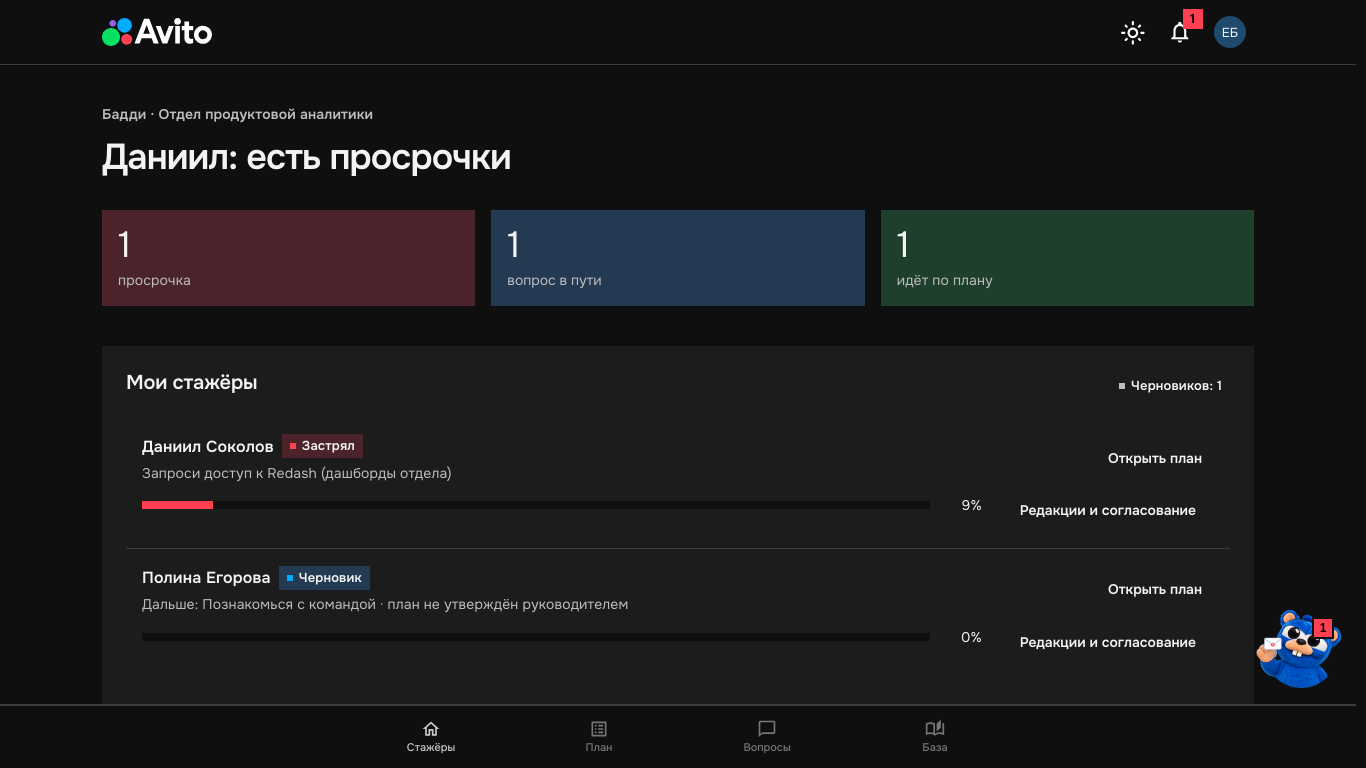
Test case: телефон, тёмная тема › бадди переключает стажёра в плане и открывает карточку стажёра
Click the button "Открыть план" in the row of "Застрял". click: point(1155, 458)
box: x1=1096 y1=436 x2=1214 y2=480
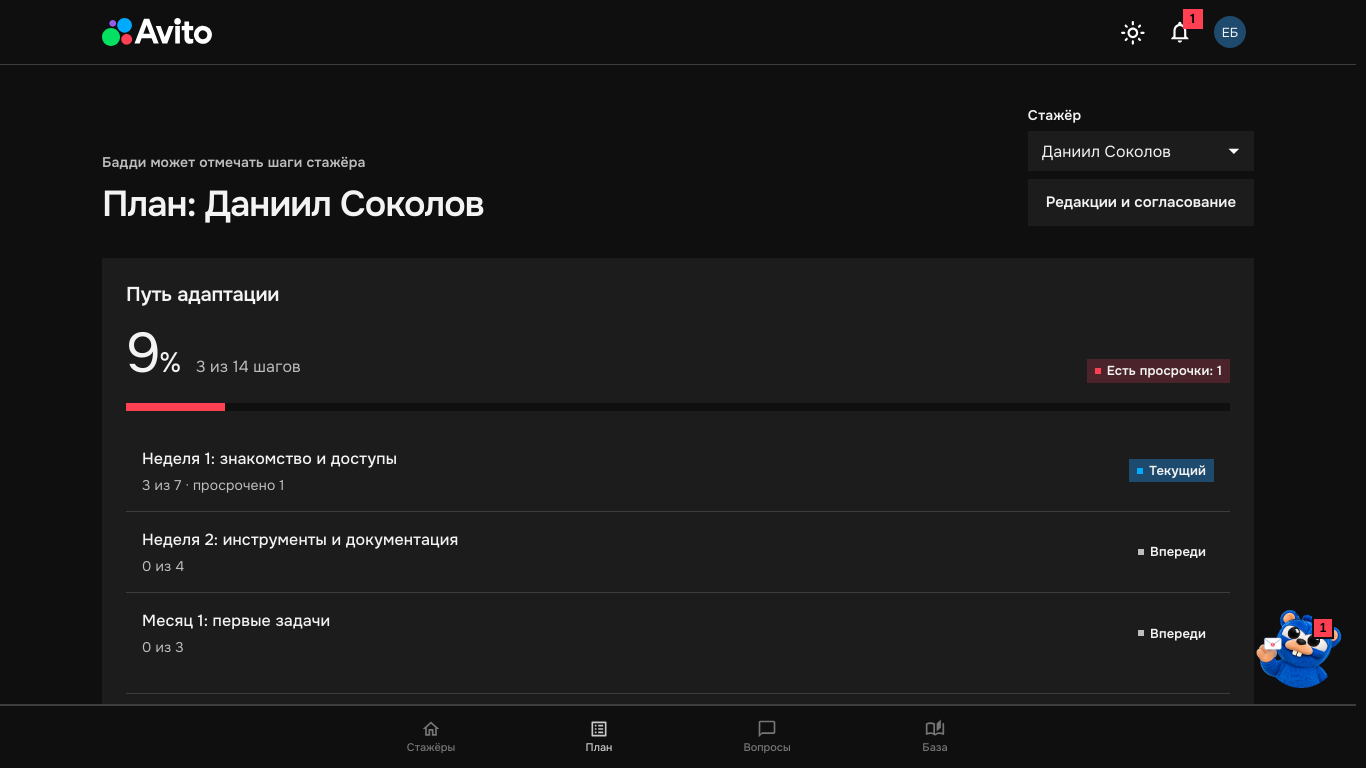
Click the dropdown named "Стажёр". click: point(1107, 151)
box: x1=1042 y1=141 x2=1171 y2=162
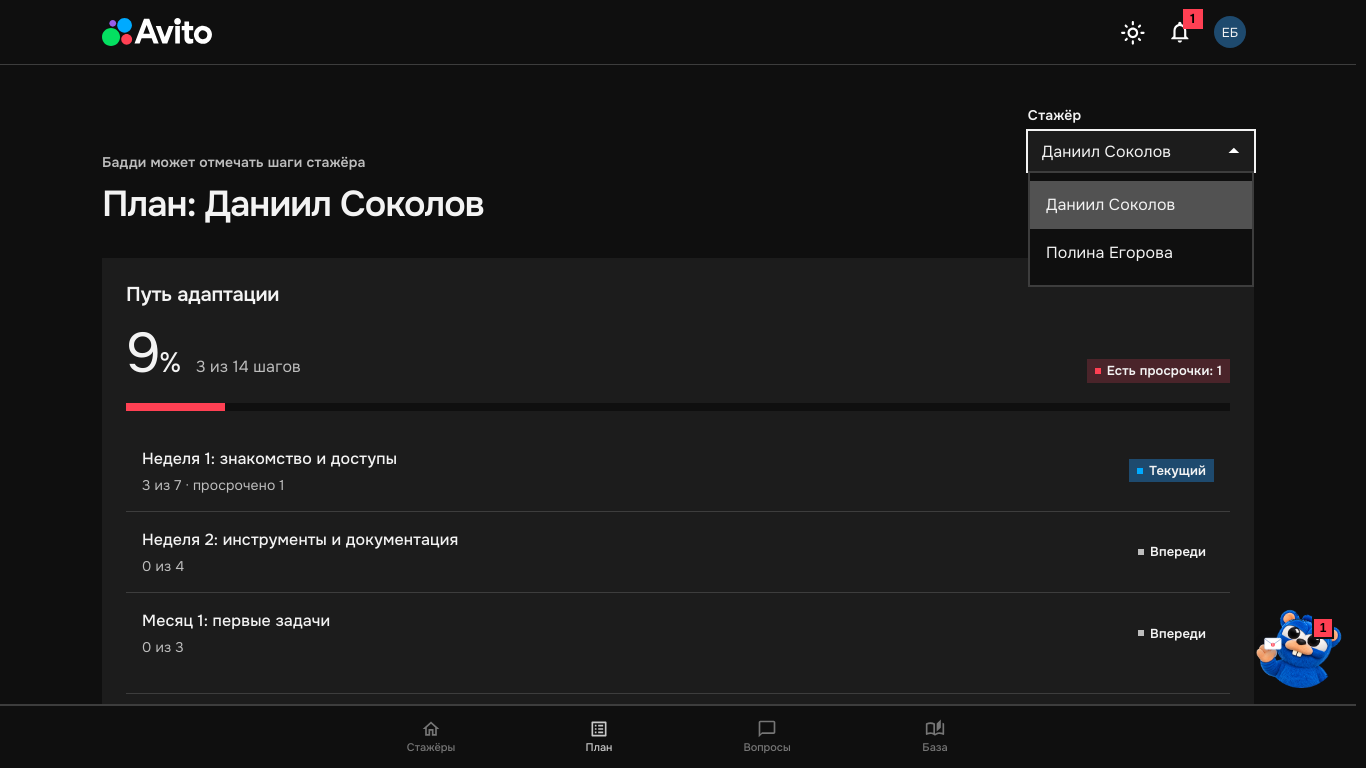
Click the option "Полина Егорова". click: point(1110, 252)
box: x1=1046 y1=242 x2=1173 y2=263
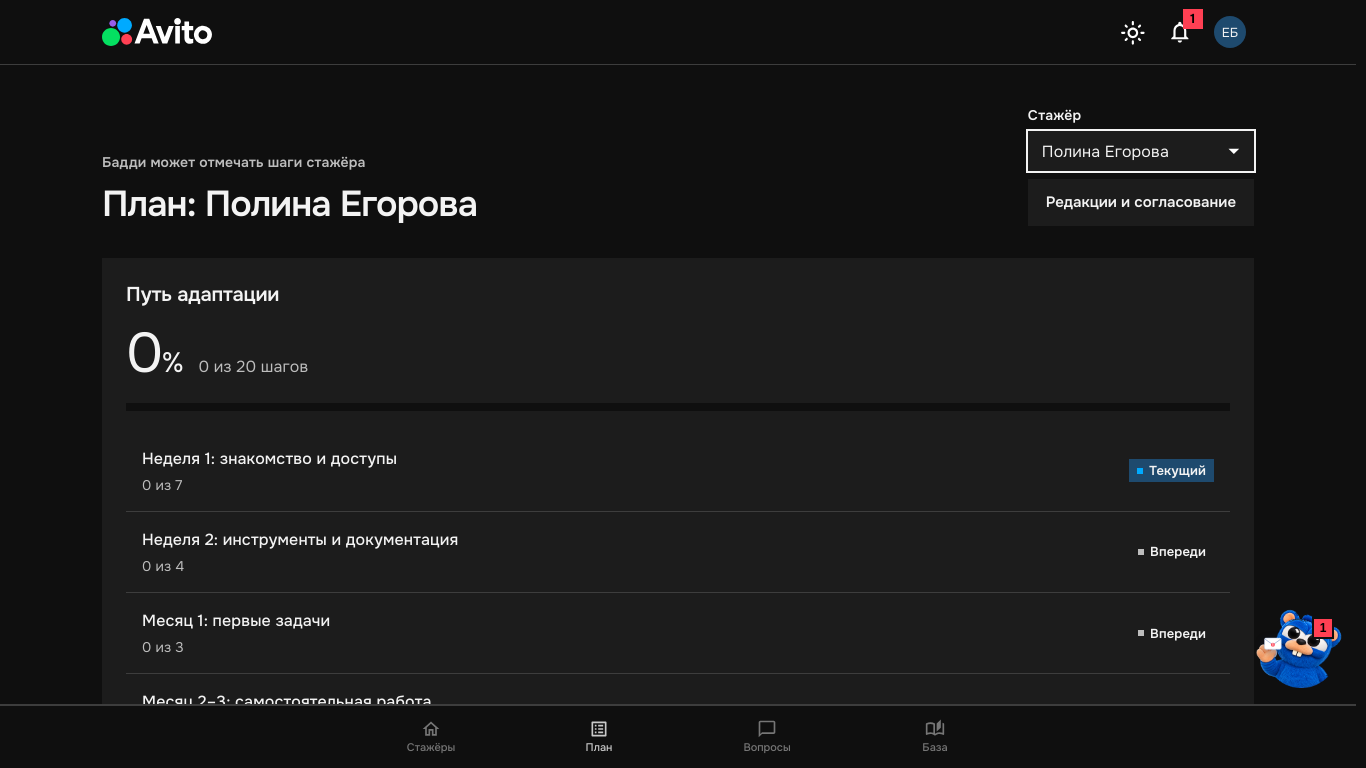
Expected: the heading "План: Полина Егорова" is shown, x1=102 y1=184 x2=477 y2=226
